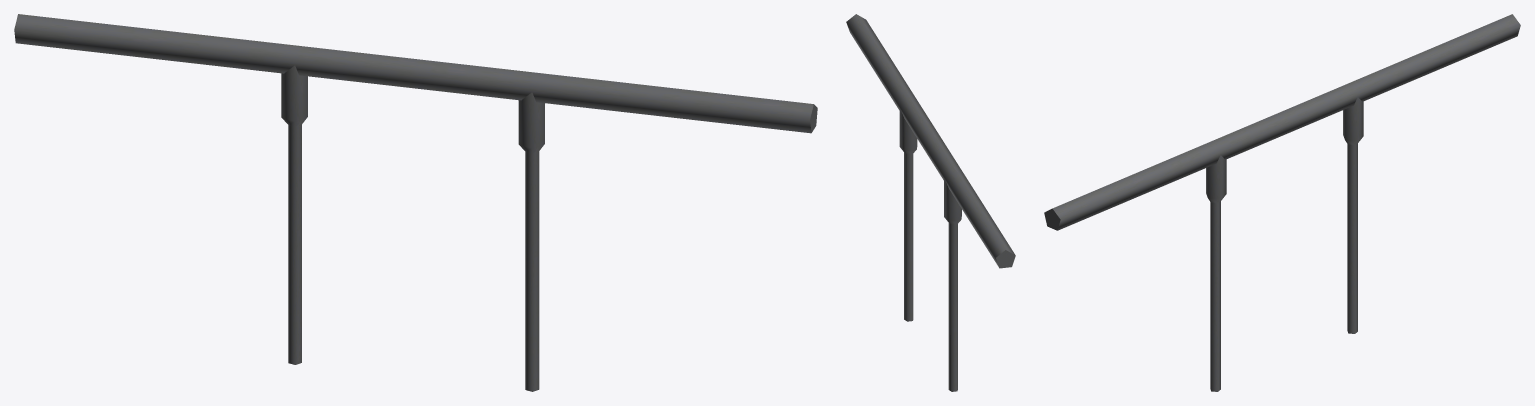
The model's file is SM_railing_b_diagonalHorizontal_200.fbx.
The picture shows the model from 3 angles, left to right: view 1: azimuth 30°, elevation 25°; view 2: azimuth 150°, elevation 25°; view 3: azimuth 270°, elevation 25°; orthographic projection. The views are drawn at different scales.
Visible parts, largest first — view 1: roomBlocks_railingb_204; view 2: roomBlocks_railingb_204; view 3: roomBlocks_railingb_204.
Boxes of the visible parts, box(x1,y1,x2,y2) form: roomBlocks_railingb_204: box(14, 14, 817, 391); roomBlocks_railingb_204: box(846, 14, 1015, 391); roomBlocks_railingb_204: box(1044, 14, 1520, 391).
Size of the model in its own units: 2.08 by 1.2 by 2.08.
